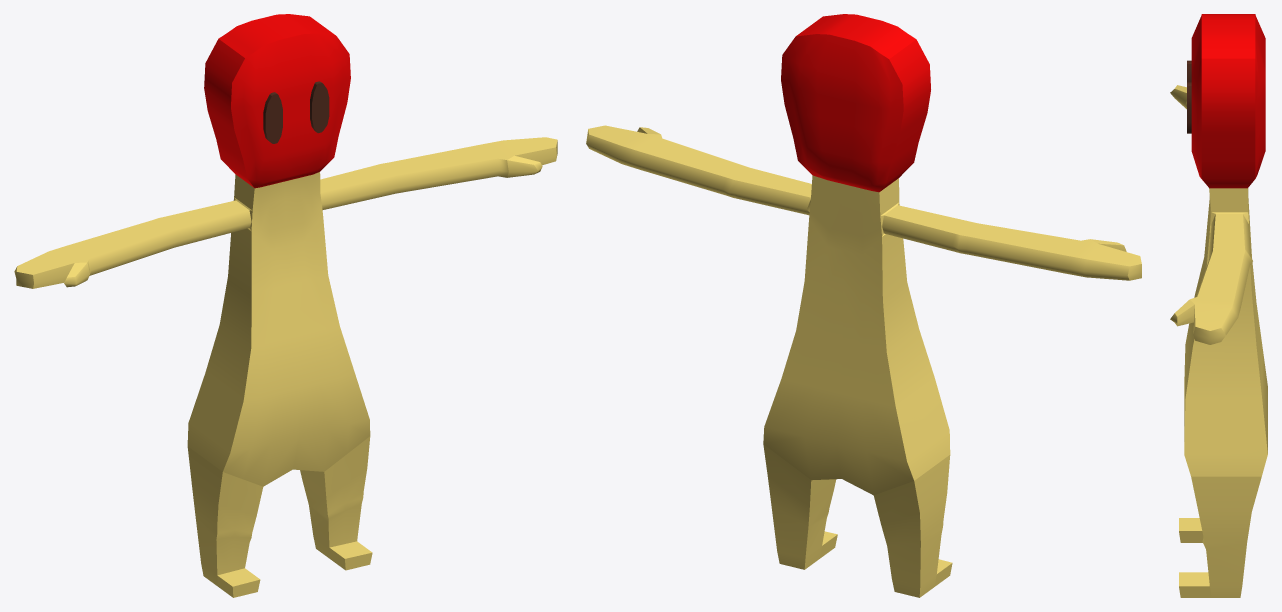
File: MatchStick man.fbx
3 renders of one model, left to right at view 1: azimuth 30°, elevation 25°; view 2: azimuth 150°, elevation 25°; view 3: azimuth 270°, elevation 25°, orthographic. The views are drawn at different scales.
Visible parts, largest first — view 1: pCube13; view 2: pCube13; view 3: pCube13.
Boxes of the visible parts, x1,y1,x2,y2 form: pCube13: (14,14,557,597); pCube13: (586,14,1141,597); pCube13: (1170,14,1267,597).
Bounding box in the file's own units: 11.69 × 11.07 × 1.82.
